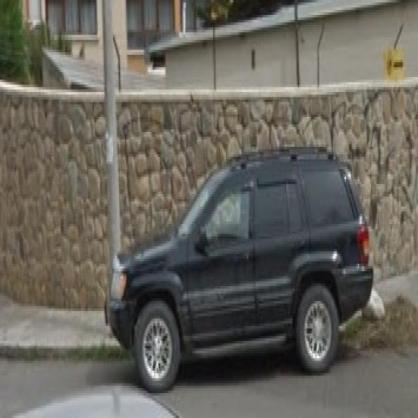car: (112, 147, 376, 395)
